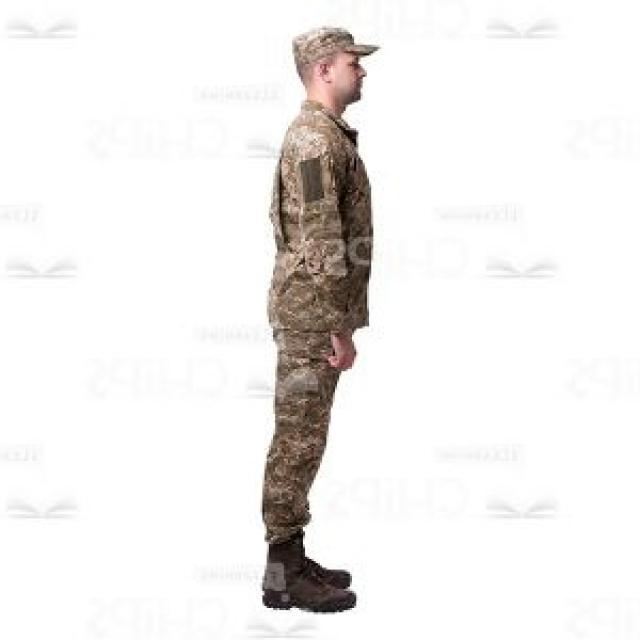adult: (216, 0, 403, 640)
